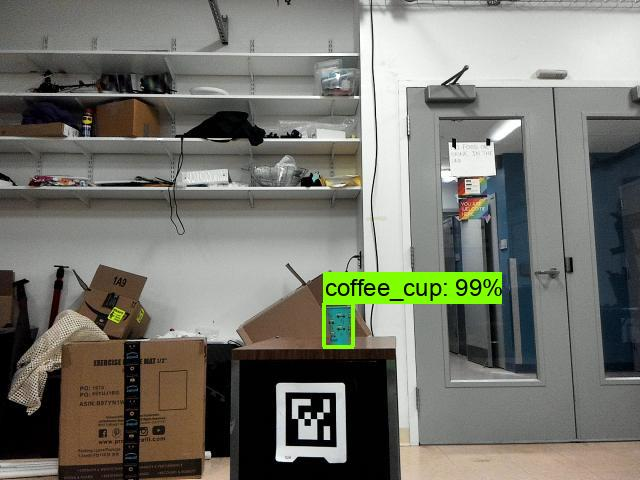coffee_cup: (324, 304, 354, 347)
